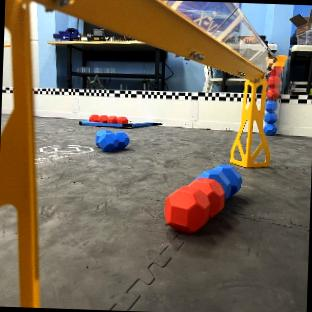V5_BLUE: (198, 165, 241, 198), (96, 130, 129, 151), (264, 101, 277, 134)
V5_RED: (164, 177, 224, 233), (88, 115, 128, 124)
